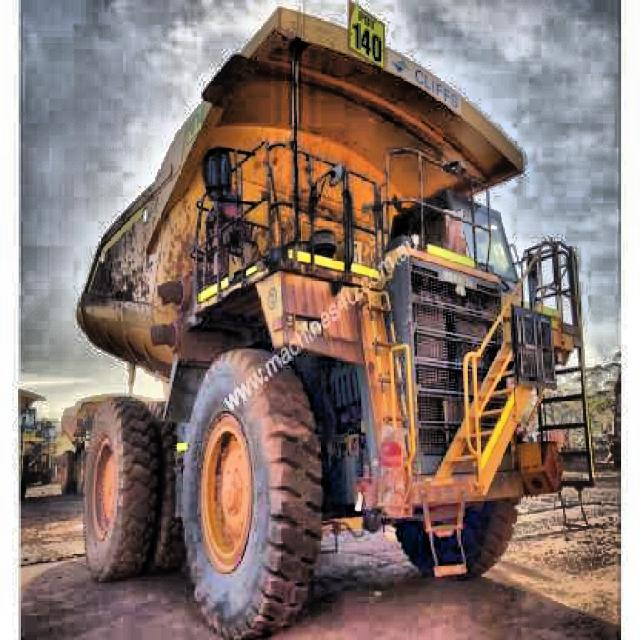dump_truck: (71, 12, 589, 618)
